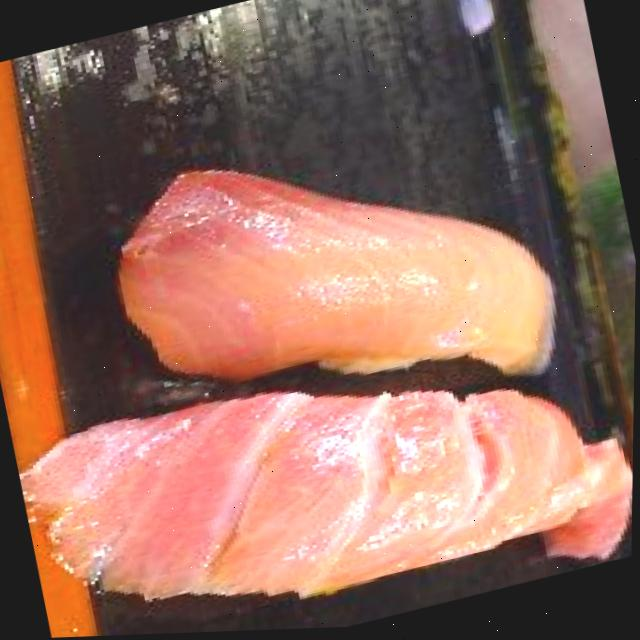寿司卷物: (0, 49, 639, 640)
